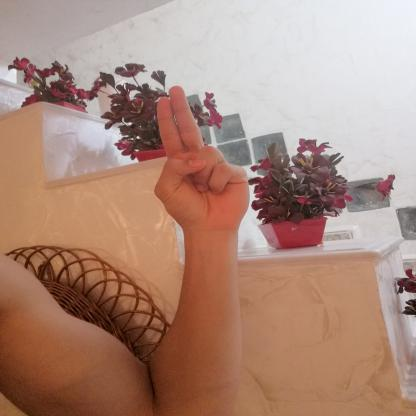TA: (136, 74, 258, 238)
